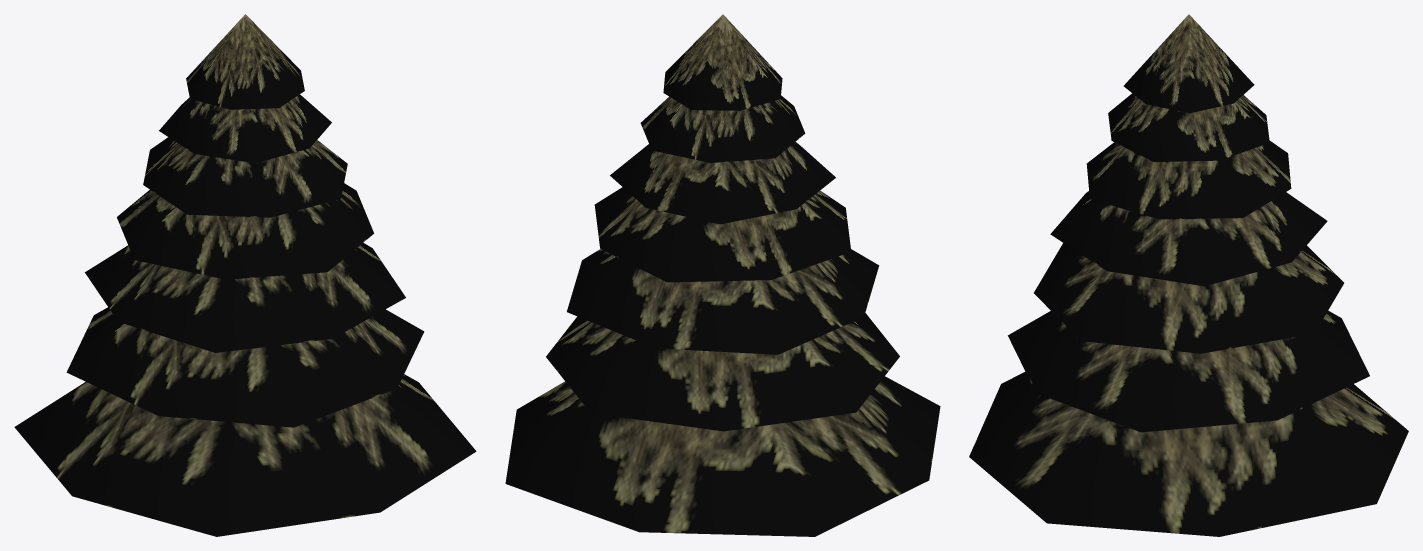
File: pine_1.dae
3 views of the same model, side by side, from view 1: azimuth 30°, elevation 25°; view 2: azimuth 150°, elevation 25°; view 3: azimuth 270°, elevation 25° (orthographic).
Parts seen in each view (by area): view 1: pine_1; view 2: pine_1; view 3: pine_1.
Boxes of the visible parts, box(x1,y1,x2,y2) form: pine_1: box(14, 14, 476, 536); pine_1: box(505, 14, 940, 536); pine_1: box(969, 14, 1408, 536).
Size of the model in its own units: 6.1 by 6.1 by 7.52.
2 materials, 2 textured.
